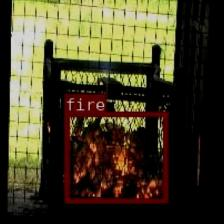fire: (64, 111, 167, 203)
